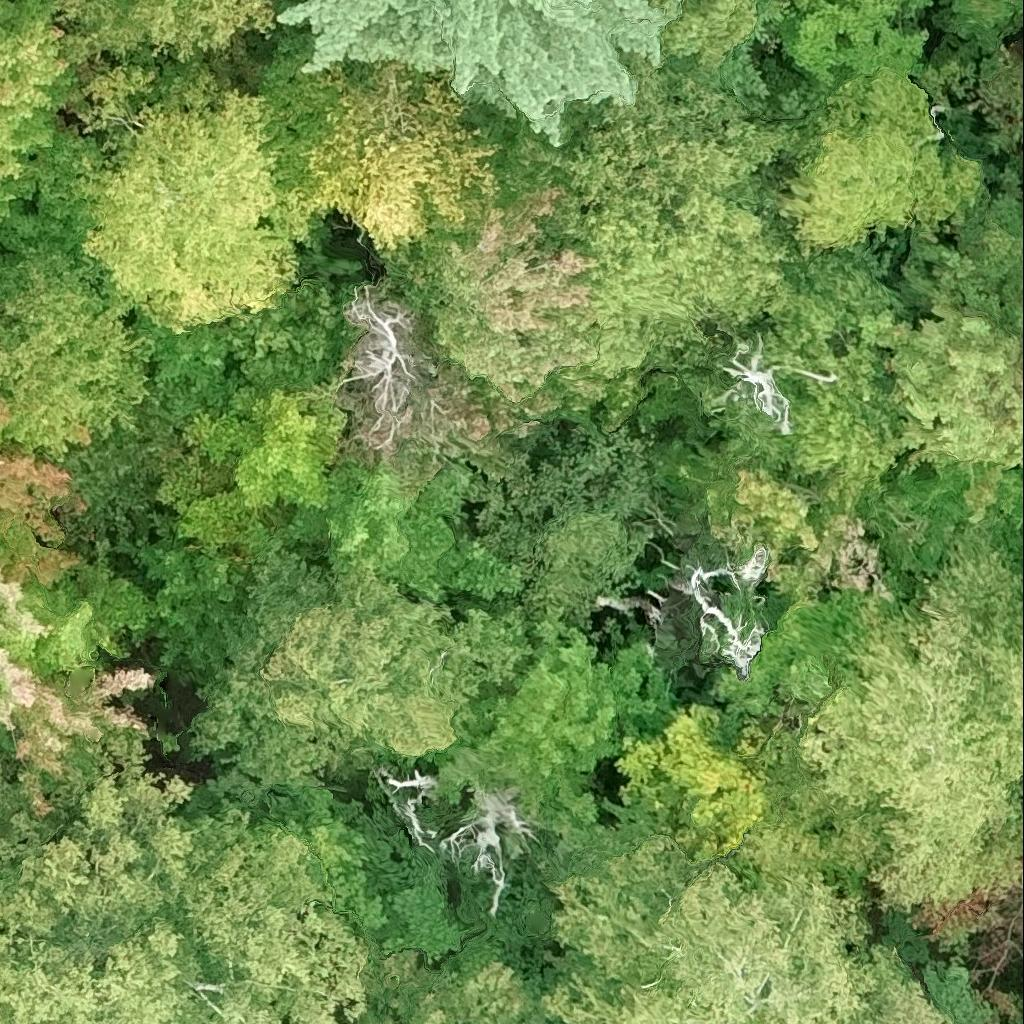crown: (803, 536, 1023, 904), (201, 564, 535, 787), (80, 66, 321, 332), (547, 831, 875, 1023), (565, 100, 799, 367), (276, 0, 691, 145), (368, 186, 619, 423), (0, 770, 208, 1023), (177, 802, 370, 1023), (717, 456, 1023, 588), (782, 71, 977, 258), (306, 63, 501, 250), (0, 583, 153, 813), (331, 286, 502, 479), (0, 259, 156, 453), (319, 462, 528, 601), (882, 300, 1023, 477), (779, 303, 903, 496), (332, 938, 576, 1023), (0, 0, 85, 220), (0, 393, 86, 587), (783, 0, 942, 89), (55, 0, 272, 60), (857, 939, 953, 1023), (665, 0, 767, 61), (0, 758, 39, 826), (774, 0, 833, 11)
